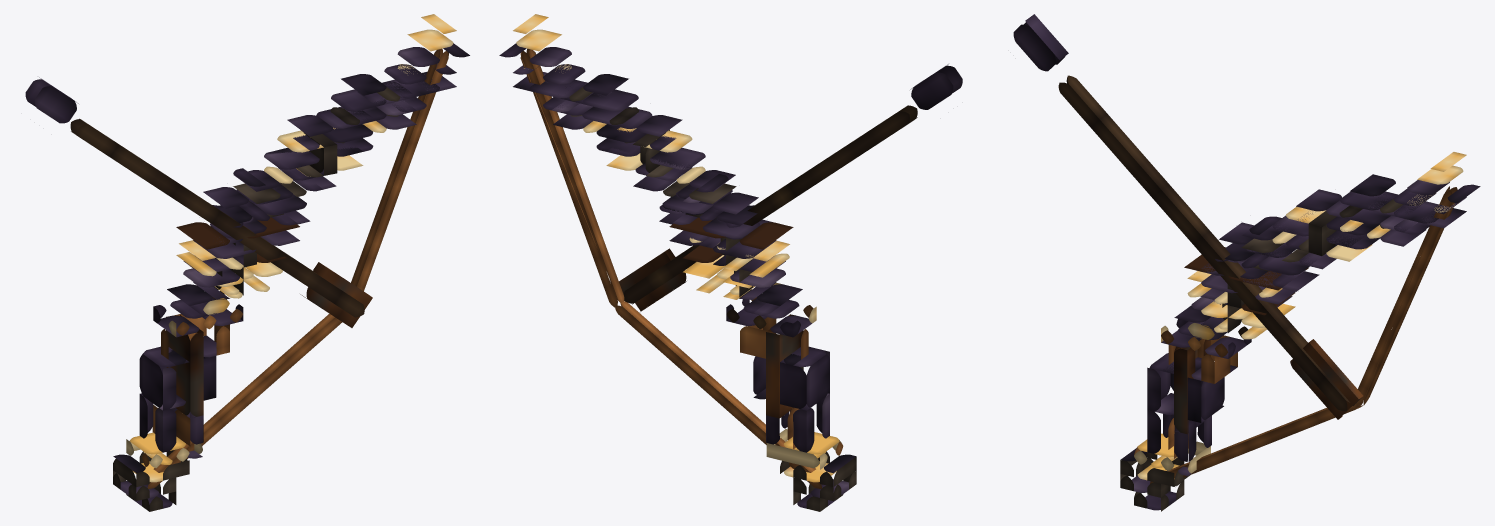
The model's file is ember_bow_pulling_1.obj.
3 renders of one model, left to right at view 1: azimuth 30°, elevation 25°; view 2: azimuth 150°, elevation 25°; view 3: azimuth 330°, elevation 25°, orthographic.
Parts seen in each view (by area): view 1: lit, fire; view 2: lit, fire; view 3: lit, fire.
Boxes of the visible parts, x1,y1,x2,y2 form: lit: (25, 14, 469, 511); fire: (147, 48, 448, 488); lit: (499, 14, 962, 511); fire: (520, 48, 821, 488); lit: (1013, 14, 1480, 511); fire: (1150, 186, 1457, 483).
Size of the model in its own units: 1.05 by 1.02 by 0.125.
